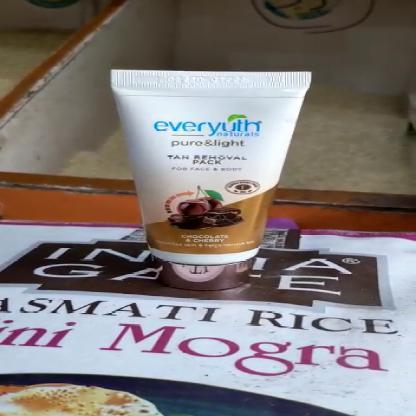EY TAN CHOCO CHERRY PACK 50G: (104, 67, 318, 292)
